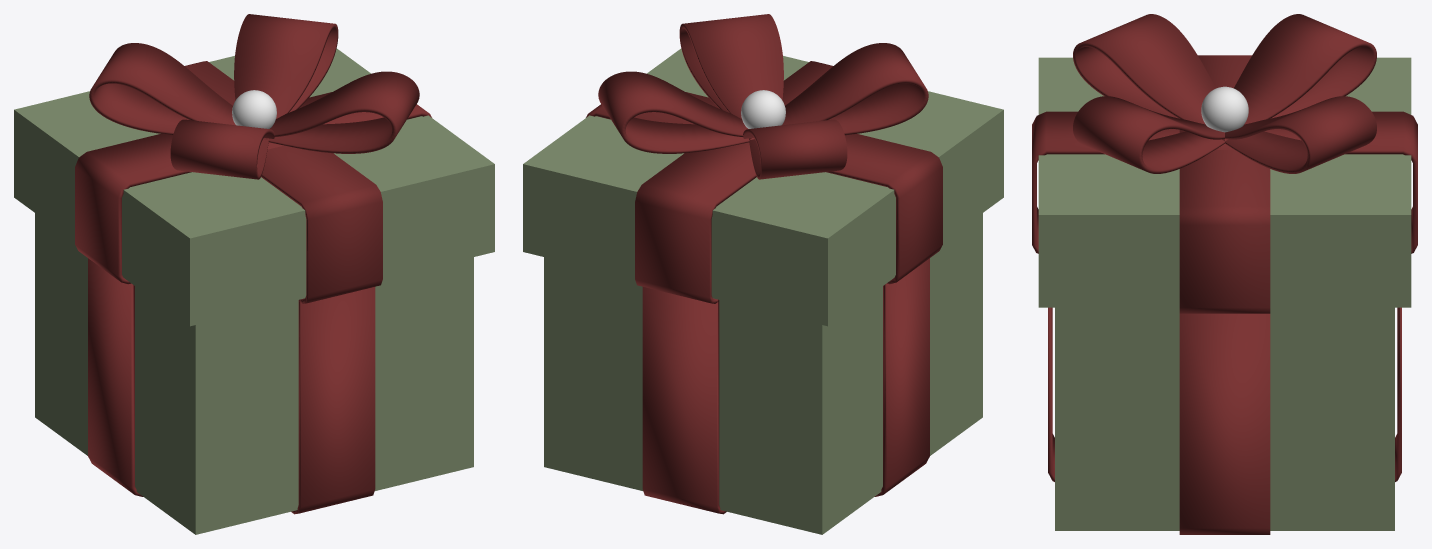
The model's file is small1.fbx.
The picture shows the model from 3 angles, left to right: view 1: azimuth 30°, elevation 25°; view 2: azimuth 150°, elevation 25°; view 3: azimuth 270°, elevation 25°; orthographic projection. The views are drawn at different scales.
Visible parts, largest first — view 1: Cube, Cube.001, NURBSパス, 球; view 2: Cube, Cube.001, NURBSパス, 球; view 3: Cube, Cube.001, NURBSパス, 球.
Part boxes in pixels (x1,y1,x2,y2): Cube: (14, 48, 494, 534); Cube.001: (75, 61, 431, 514); NURBSパス: (89, 14, 419, 179); 球: (232, 90, 276, 128); Cube: (523, 48, 1003, 534); Cube.001: (586, 61, 942, 514); NURBSパス: (598, 14, 928, 179); 球: (741, 90, 785, 128); Cube: (1038, 57, 1411, 530); Cube.001: (1032, 55, 1417, 534); NURBSパス: (1073, 14, 1376, 173); 球: (1201, 86, 1248, 132).
Bounding box in the file's own units: 30.86 × 34.85 × 30.86.
